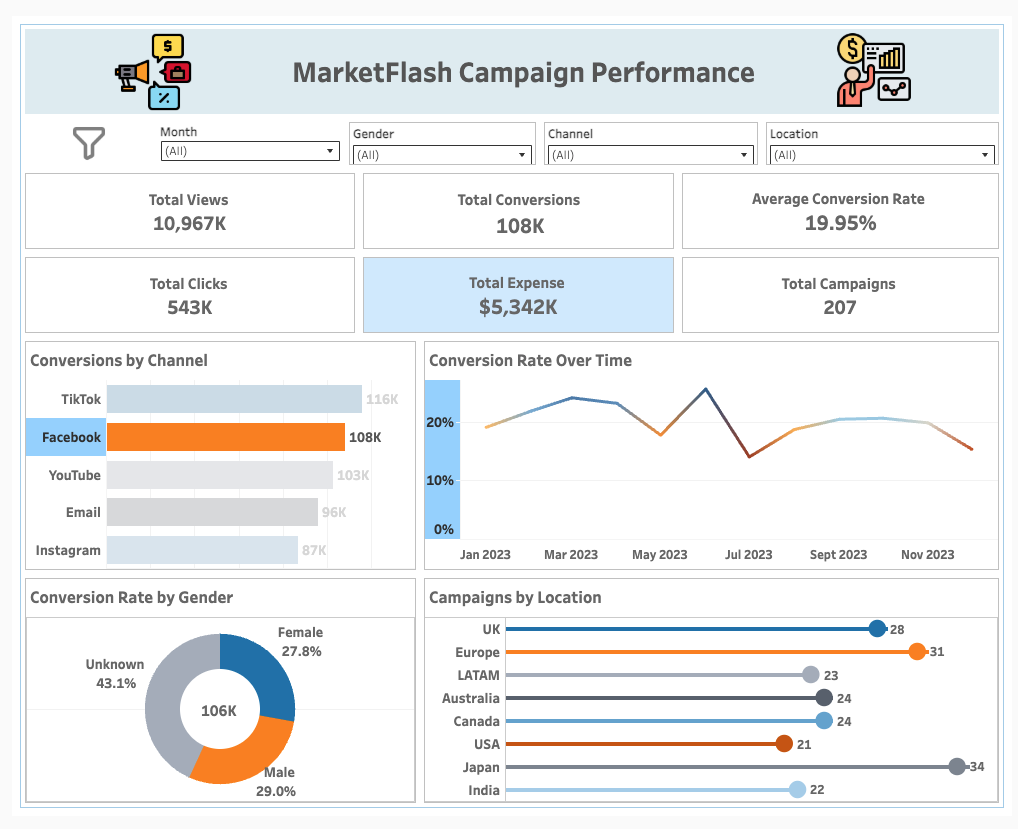

This screenshot's page, from the dashboard's own definition file:
{"tool":"tableau","page":{"name":"Dashboard 1","canvas":[1000,800],"ordinal":0},"visuals":[{"type":"text","box":[9,9,982,93]},{"type":"image","param":"Image/1933920.png","box":[771,16,182,76]},{"type":"image","param":"Image/3880068.png","box":[27,17,227,79]},{"type":"image","param":"Image/4a62d884-c820-4977-9b84-7546e8389376.png","box":[9,102,135,51]},{"type":"filter","title":"Conversion Rate Over Time","param":"[federated.1xc68bq19i2yy212y0jtp1cf4lau].[mn:Start Date:ok]","box":[144,102,189,51]},{"type":"filter","title":"Conversion Rate Over Time","param":"[federated.1xc68bq19i2yy212y0jtp1cf4lau].[none:Gender 1:nk]","box":[333,102,195,51]},{"type":"filter","title":"Conversion Rate Over Time","param":"[federated.1xc68bq19i2yy212y0jtp1cf4lau].[none:Channel:nk]","box":[528,102,222,51]},{"type":"filter","title":"Conversion Rate Over Time","param":"[federated.1xc68bq19i2yy212y0jtp1cf4lau].[none:Location:nk]","box":[750,102,241.1,51]},{"type":"worksheet","title":"Total Views","mark":"Automatic","box":[9,153,338,84]},{"type":"worksheet","title":"Total Conversions","mark":"Automatic","box":[347,153,319,84]},{"type":"worksheet","title":"Average Conversion Rate (%)","mark":"Automatic","box":[666,153,325,84]},{"type":"worksheet","title":"Total Clicks","mark":"Automatic","box":[9,237,338,84]},{"type":"worksheet","title":"Total Expense","mark":"Automatic","box":[347,237,319,83.7]},{"type":"worksheet","title":"Total Campaigns","mark":"Automatic","box":[666,237,325,83.7]},{"type":"worksheet","title":"Conversions by Channel","mark":"Automatic","rows":["Channel"],"cols":["Conversions"],"box":[9,320.7,398.8,237]},{"type":"worksheet","title":"Conversion Rate Over Time","mark":"Line","rows":["Calculation_6948913511748833280"],"cols":["Start Date"],"box":[407.8,320.7,583.2,237.3]},{"type":"worksheet","title":"Conversion Rate by Gender ","mark":"Pie","rows":["Calculation_287456344626528260","Calculation_287456344626638854"],"box":[9,557.7,398.8,233.3]},{"type":"worksheet","title":"Campaigns by Location","mark":"Bar","rows":["Location"],"cols":["Campaign Number","Campaign Number"],"box":[407.8,558,583.2,233]}]}

Visuals, with their boxes in screenshot pixels (x1, y1, x2, y2), scaled from the page's 1000x800 canvas onto the 1018x829 screenshot:
text: locate(9, 9, 1009, 106)
image: locate(785, 17, 970, 95)
image: locate(27, 18, 259, 99)
image: locate(9, 106, 147, 159)
"Conversion Rate Over Time" filter: locate(147, 106, 339, 159)
"Conversion Rate Over Time" filter: locate(339, 106, 538, 159)
"Conversion Rate Over Time" filter: locate(538, 106, 764, 159)
"Conversion Rate Over Time" filter: locate(764, 106, 1009, 159)
"Total Views" worksheet: locate(9, 159, 353, 246)
"Total Conversions" worksheet: locate(353, 159, 678, 246)
"Average Conversion Rate (%)" worksheet: locate(678, 159, 1009, 246)
"Total Clicks" worksheet: locate(9, 246, 353, 333)
"Total Expense" worksheet: locate(353, 246, 678, 332)
"Total Campaigns" worksheet: locate(678, 246, 1009, 332)
"Conversions by Channel" worksheet: locate(9, 332, 415, 578)
"Conversion Rate Over Time" worksheet (Line marks): locate(415, 332, 1009, 578)
"Conversion Rate by Gender " worksheet (Pie marks): locate(9, 578, 415, 820)
"Campaigns by Location" worksheet (Bar marks): locate(415, 578, 1009, 820)
